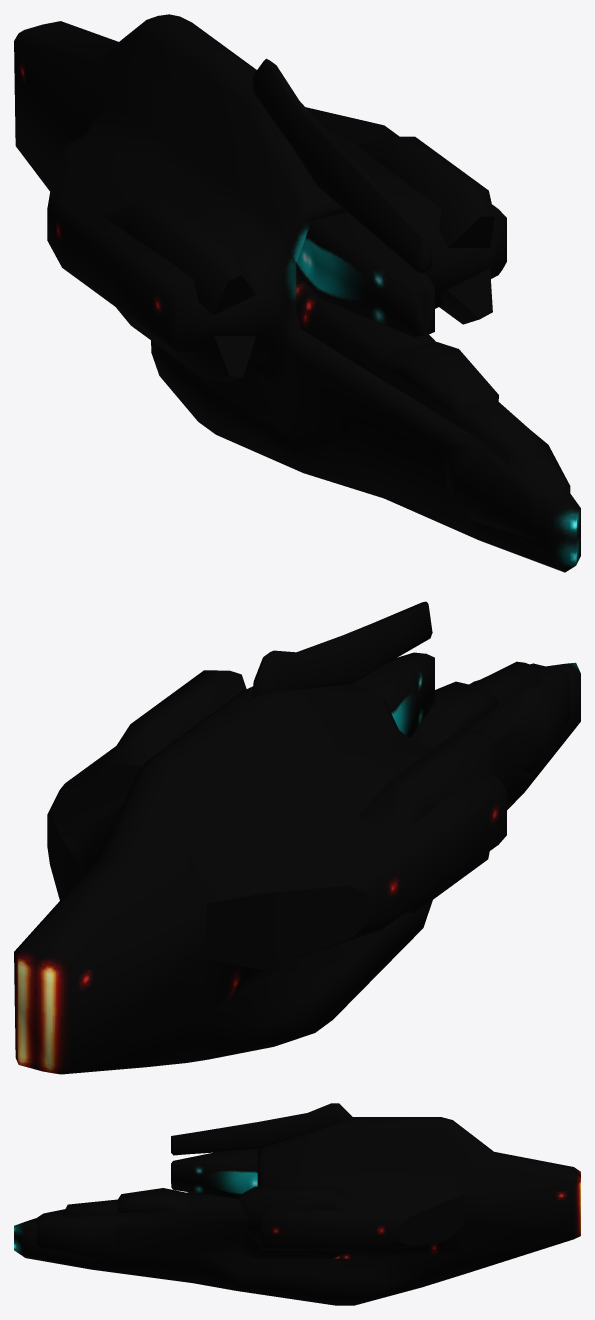
Rendered from yao_sc_assa_01_t2.glb.
The picture shows the model from 3 angles, top to bottom: view 1: azimuth 30°, elevation 25°; view 2: azimuth 150°, elevation 25°; view 3: azimuth 270°, elevation 25°; orthographic projection. The views are drawn at different scales.
Visible parts, largest first — view 1: yaot_assault_corvette_01_LOD0; view 2: yaot_assault_corvette_01_LOD0; view 3: yaot_assault_corvette_01_LOD0.
Boxes of the visible parts, left/top/right/bottom form: yaot_assault_corvette_01_LOD0: left=14, top=14, right=580, bottom=572; yaot_assault_corvette_01_LOD0: left=14, top=601, right=580, bottom=1074; yaot_assault_corvette_01_LOD0: left=14, top=1103, right=580, bottom=1305.
Size of what is drawn, in the model's own units: 0.3537 by 0.385 by 0.9819.
Materials: 1 (1 with a texture image).
